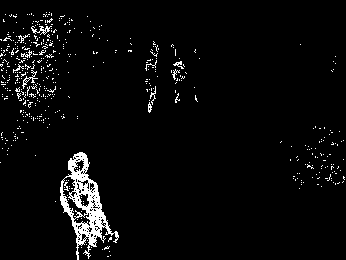person: (58, 150, 119, 260), (168, 59, 188, 103)
